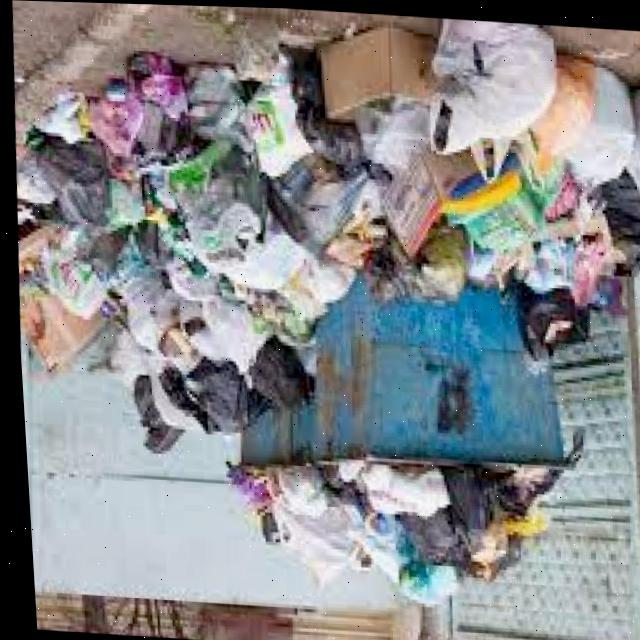Garbage: (13, 16, 640, 451), (218, 455, 555, 600), (412, 219, 461, 297)
Metal: (102, 77, 124, 101)
Plastic: (438, 151, 540, 248), (585, 271, 615, 309)
Plastic_Bag: (175, 145, 304, 286), (513, 51, 631, 202), (429, 16, 553, 151), (519, 152, 616, 301), (258, 465, 364, 584), (282, 46, 361, 165), (355, 509, 449, 602), (240, 51, 309, 175), (153, 355, 265, 431), (102, 231, 172, 347), (244, 53, 309, 175), (33, 134, 104, 226), (331, 457, 442, 514), (298, 164, 379, 242), (184, 294, 261, 372), (38, 227, 101, 318), (586, 165, 640, 271), (512, 279, 584, 357), (352, 94, 427, 168), (435, 461, 513, 529), (274, 255, 351, 318), (244, 334, 308, 407), (390, 503, 460, 566), (127, 373, 177, 452), (263, 177, 316, 251), (463, 235, 528, 287), (105, 326, 159, 385), (143, 370, 195, 429), (32, 90, 86, 142), (459, 530, 514, 578), (314, 461, 362, 512), (84, 225, 126, 283), (162, 253, 214, 299), (219, 461, 264, 511), (153, 324, 195, 372), (623, 82, 640, 195), (468, 135, 508, 178), (173, 295, 197, 325), (253, 509, 272, 542), (179, 315, 201, 335)
can: (268, 158, 309, 205)
